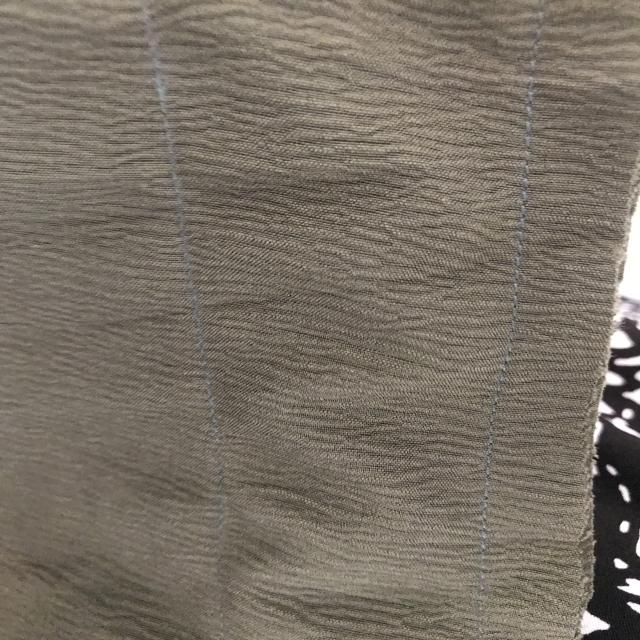good: (512, 72, 554, 190)
